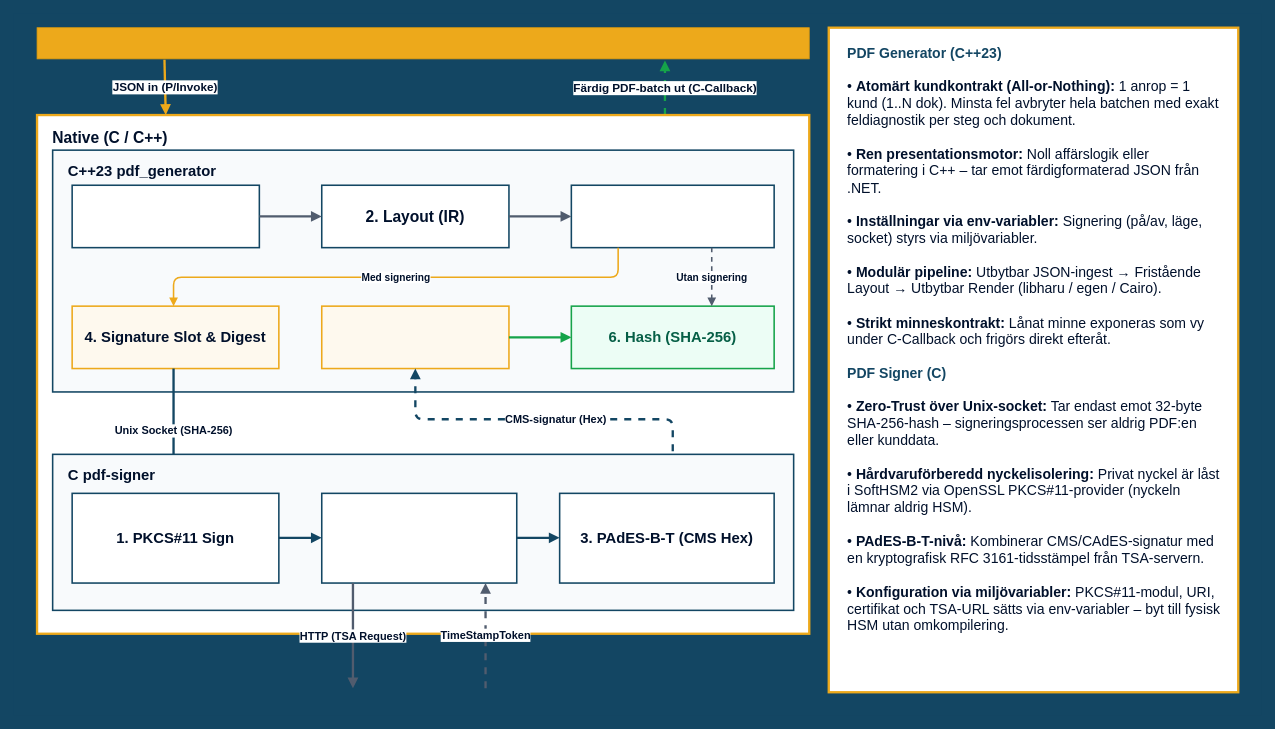
Image size: 1275x729. Some labels were removed from this diagram. Here are the shapes that lost their labels. From the top down, the centre of each, then its label:
the point at 422,43: Nordiska Sparbanken v2 — Native PDF-Pipeline (C++23 & C)
the point at 165,216: 1. Ingest
the point at 672,216: 3. Render
the point at 415,337: 5. Insert Signatur
the point at 419,537: 2. TSA Tidsstämpel
